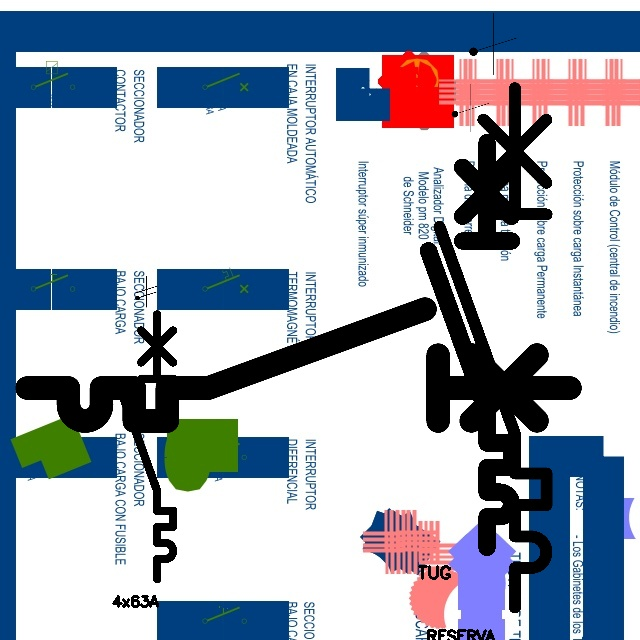interruptor_termomagnetico: (13, 295, 584, 435), (426, 74, 560, 620), (418, 132, 522, 558), (112, 307, 180, 586)
